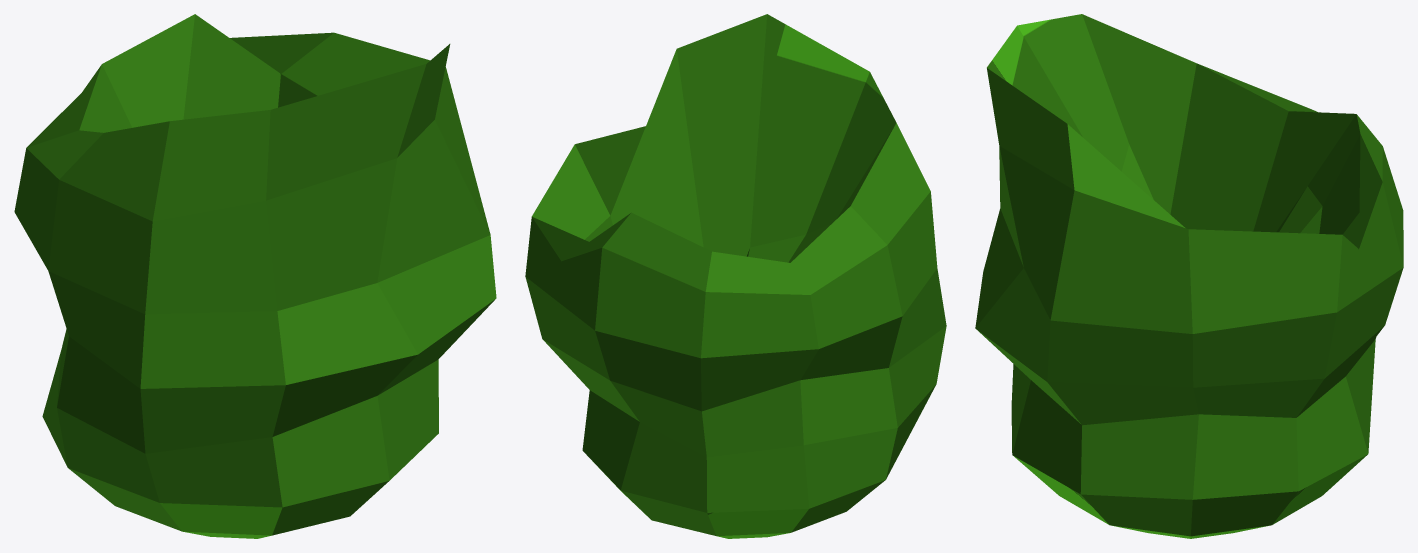
The model's file is Salat.fbx.
The picture shows the model from 3 angles, left to right: view 1: azimuth 30°, elevation 25°; view 2: azimuth 150°, elevation 25°; view 3: azimuth 270°, elevation 25°; orthographic projection. The views are drawn at different scales.
Visible parts, largest first — view 1: SalatKopf; view 2: SalatKopf; view 3: SalatKopf.
Part boxes in pixels (<box>): SalatKopf: <box>14,14,496,538</box>; SalatKopf: <box>525,14,946,538</box>; SalatKopf: <box>975,14,1403,538</box>.
Bounding box in the file's own units: 58.48 × 68.54 × 54.68.
Materials: 1 (1 with a texture image).
